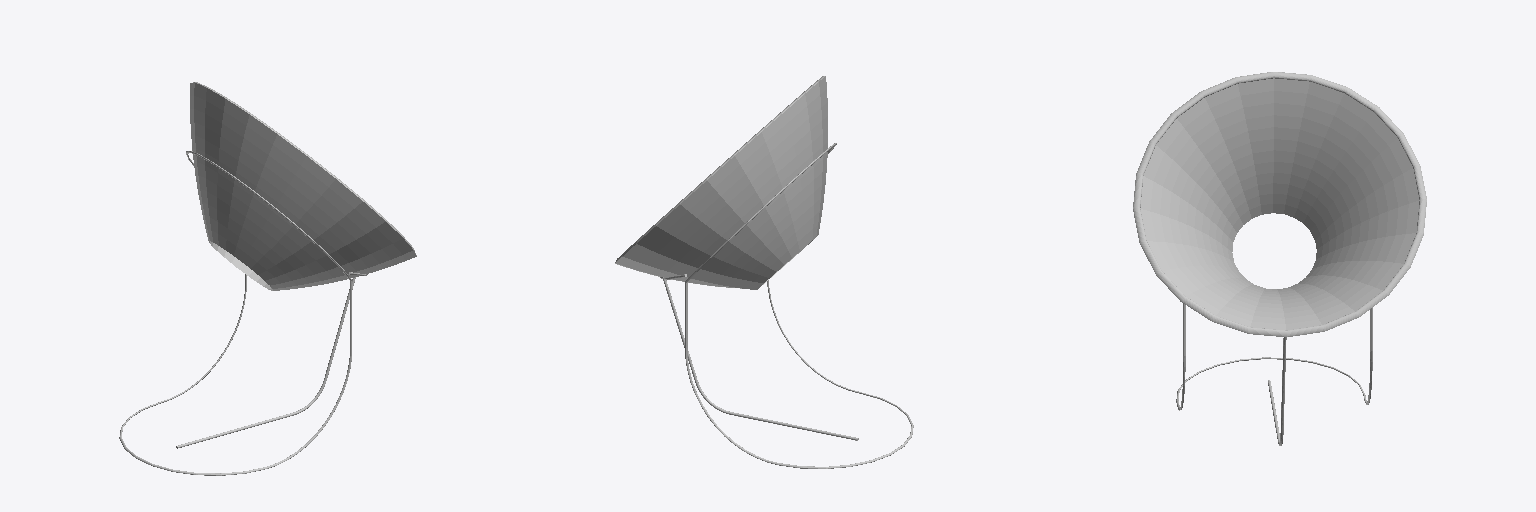
The model's file is chair_model.obj.
3 views of the same model, side by side, from view 1: azimuth 30°, elevation 25°; view 2: azimuth 150°, elevation 25°; view 3: azimuth 270°, elevation 25° (orthographic).
Visible parts, largest first — view 1: mesh17_mesh17-geometry, mesh20_mesh20-geometry, mesh9.001_mesh9-geometry; view 2: mesh17_mesh17-geometry, mesh20_mesh20-geometry, mesh1.001_mesh1-geometry; view 3: mesh17_mesh17-geometry, mesh20_mesh20-geometry.
Boxes of the visible parts, x1=… form: mesh17_mesh17-geometry: x1=190, y1=82, x2=416, y2=290; mesh20_mesh20-geometry: x1=119, y1=151, x2=351, y2=475; mesh9.001_mesh9-geometry: x1=176, y1=272, x2=367, y2=447; mesh17_mesh17-geometry: x1=615, y1=76, x2=827, y2=289; mesh20_mesh20-geometry: x1=685, y1=143, x2=913, y2=468; mesh1.001_mesh1-geometry: x1=660, y1=274, x2=858, y2=440; mesh17_mesh17-geometry: x1=1133, y1=72, x2=1426, y2=336; mesh20_mesh20-geometry: x1=1176, y1=303, x2=1372, y2=410.
Bounding box in the file's own units: 0.531 × 0.6638 × 0.5267.